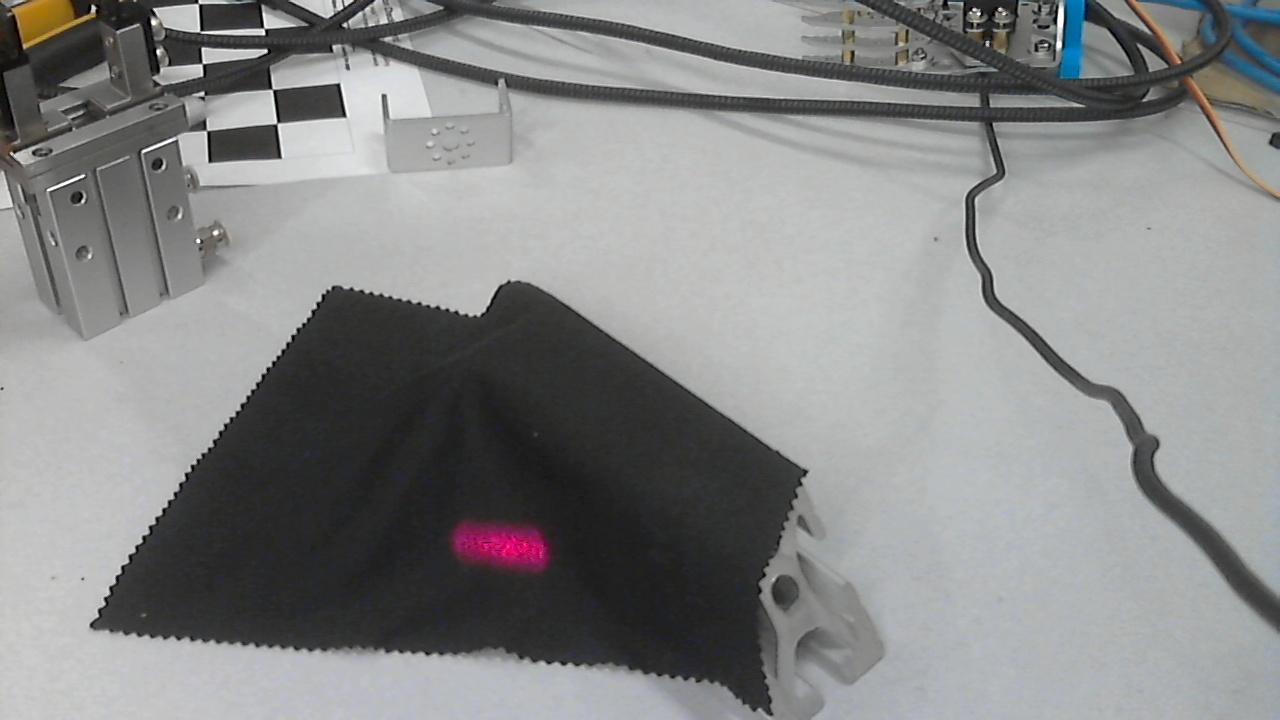Object microfiber cleaning cloth - Material fabric - Color black - Pdfname drQGv: (432, 496, 560, 583)
